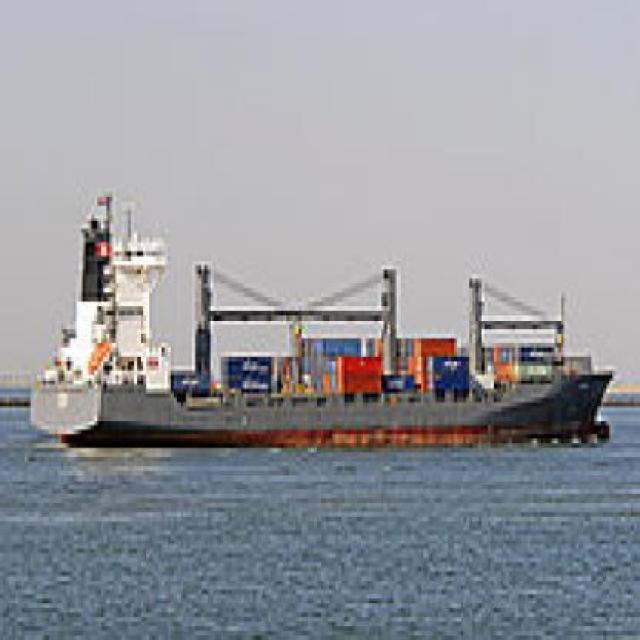container: (25, 174, 617, 454)
